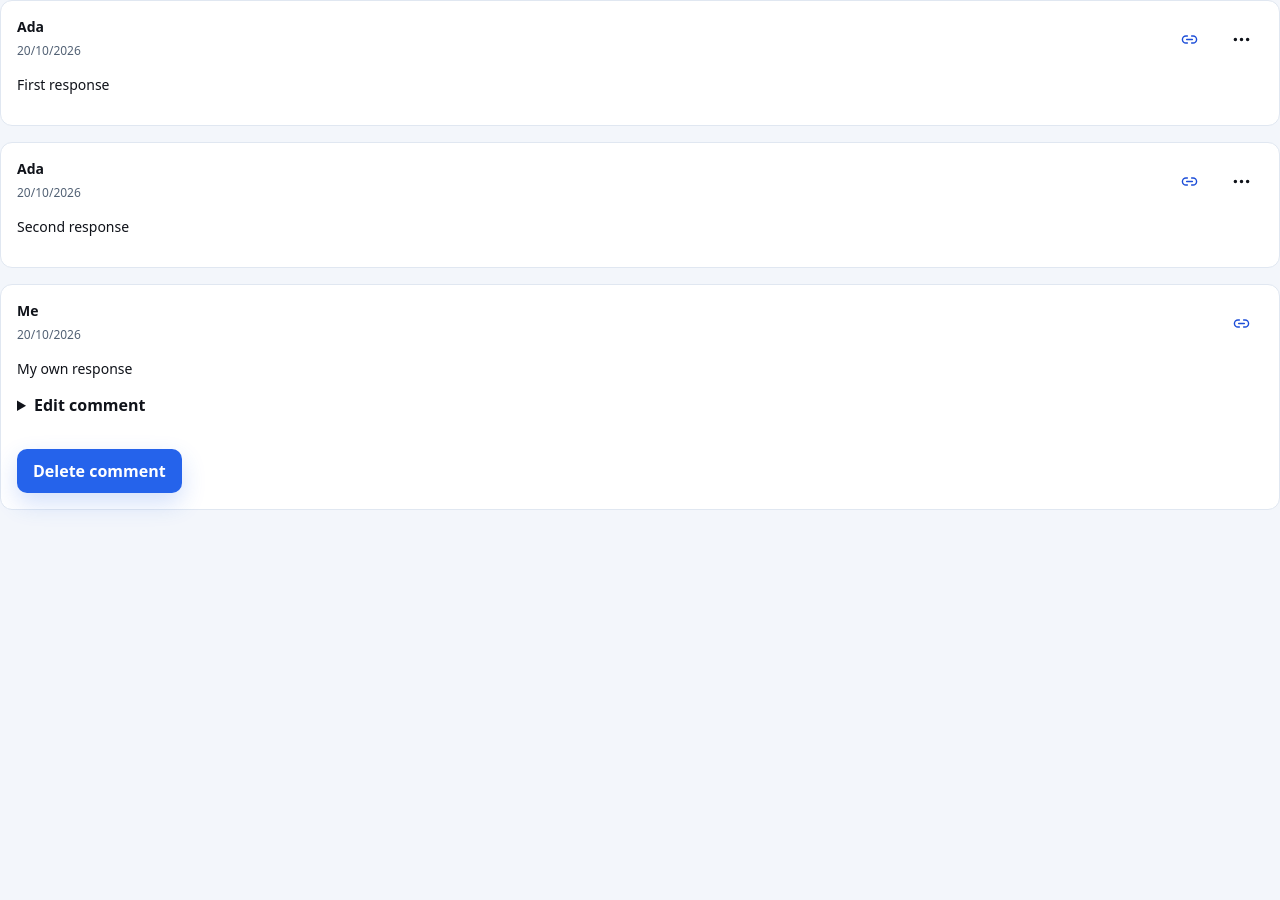
social comment safety › hides every comment from a blocked author only after confirmed success
Press the mouse on the 1st button named "More options for Ada" at (1241, 39), box [1219,17,1263,61]
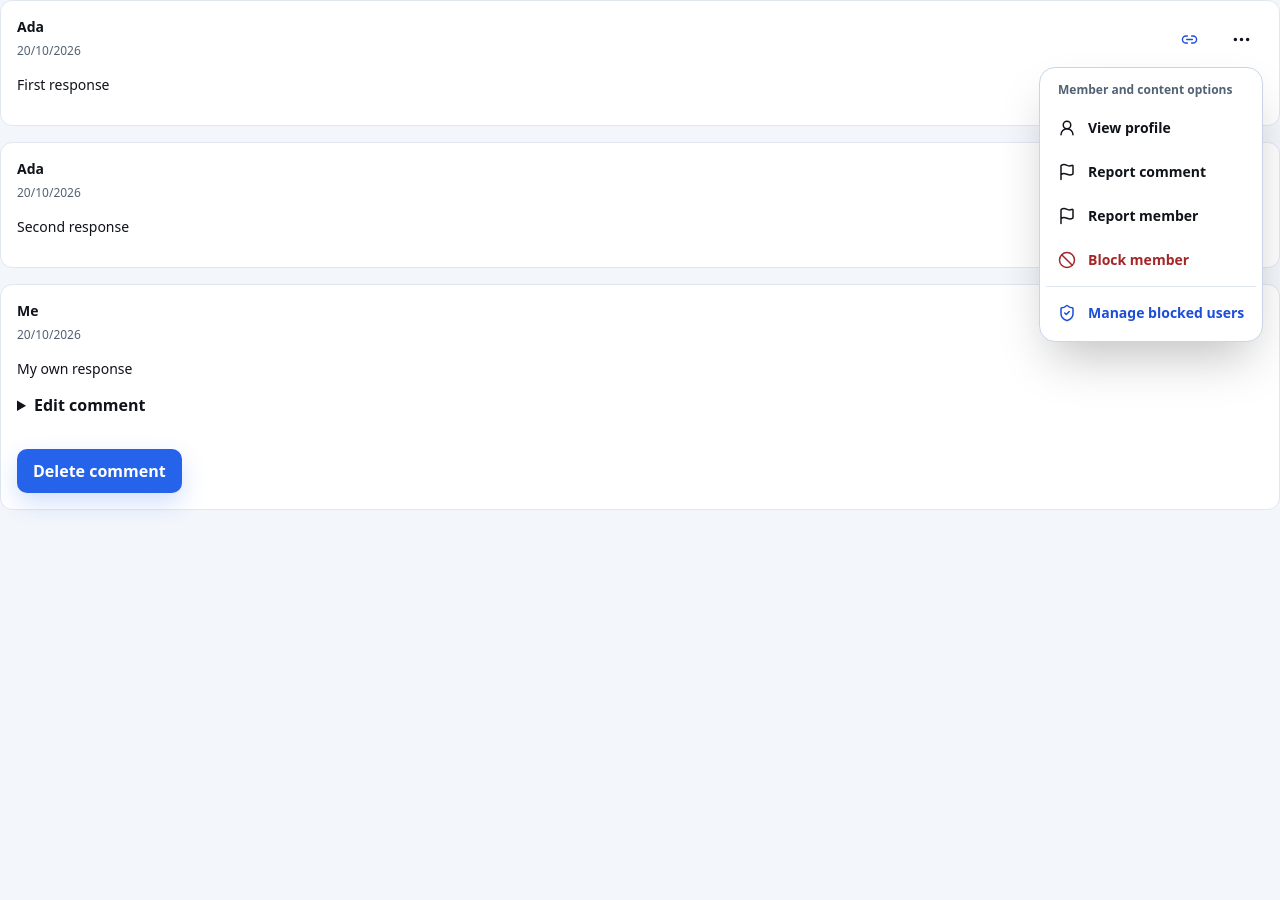
Click the menu item "Block member". click: (1124, 260)
box: [1058,250,1189,269]
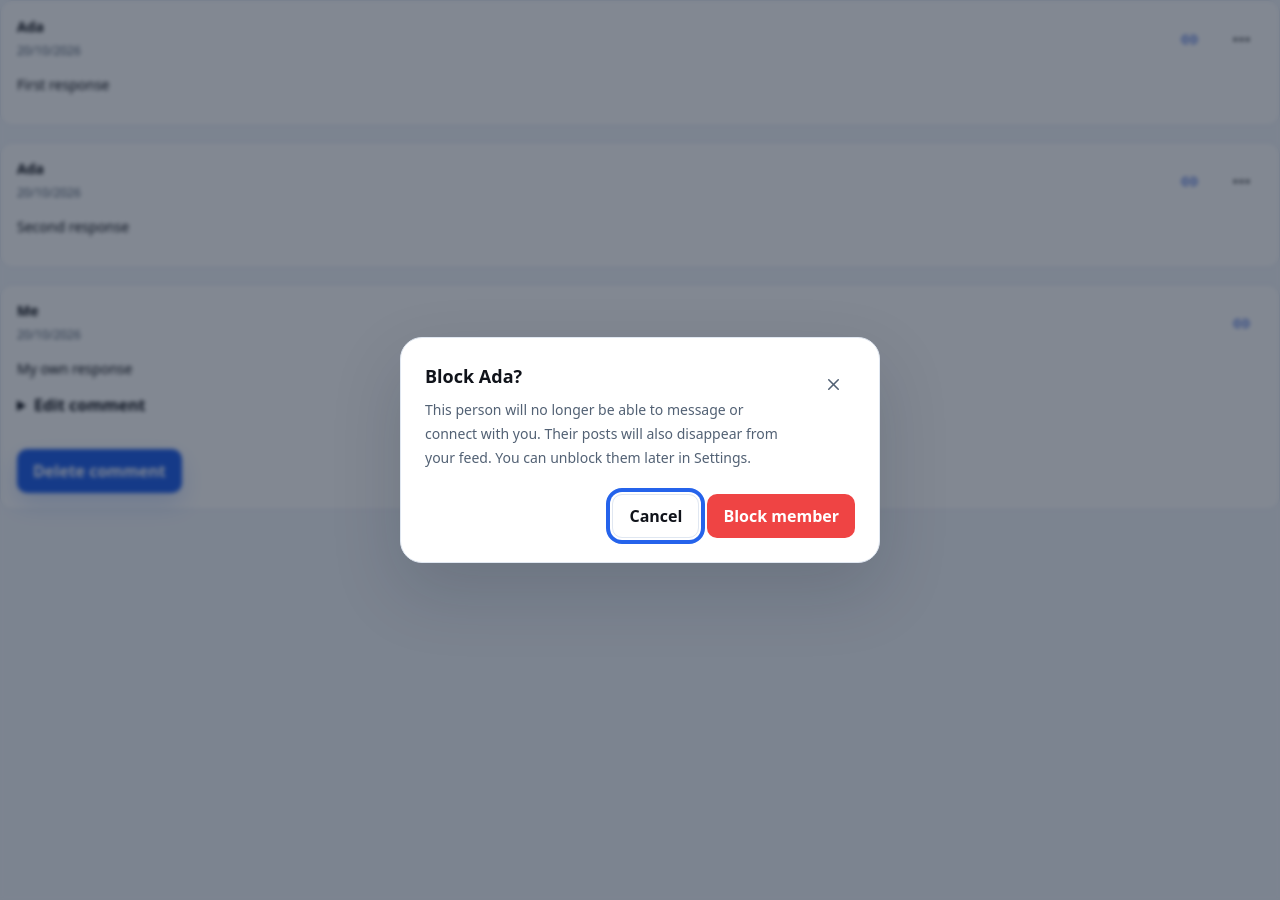
Expected: the text "First response" is shown, [17,75,110,94]
Click the button "Block member". click: (781, 516)
box: [707,494,855,538]
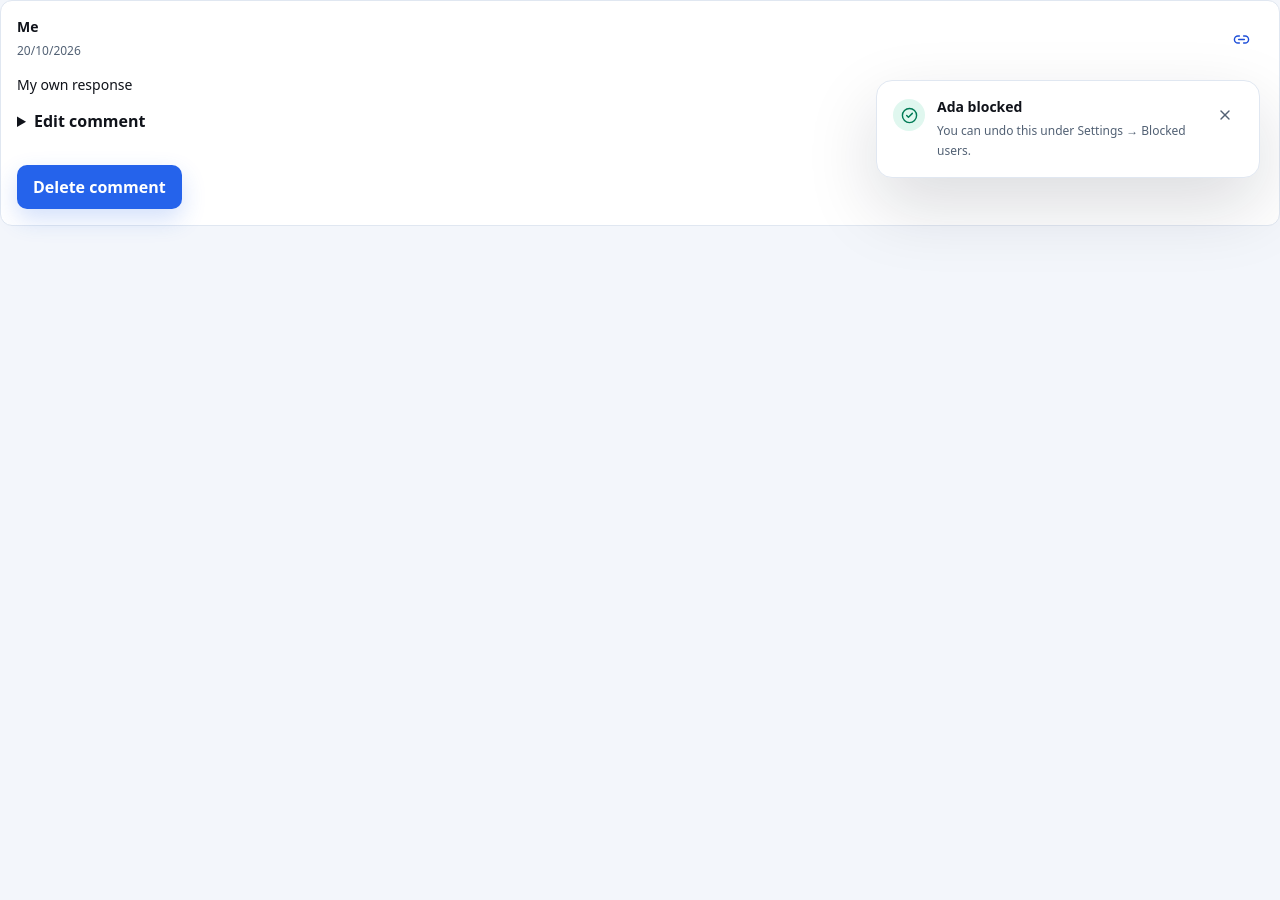
Expected: the text "My own response" is shown, [17,75,132,94]
Now the text "First response" is gone
Now the text "Second response" is gone
